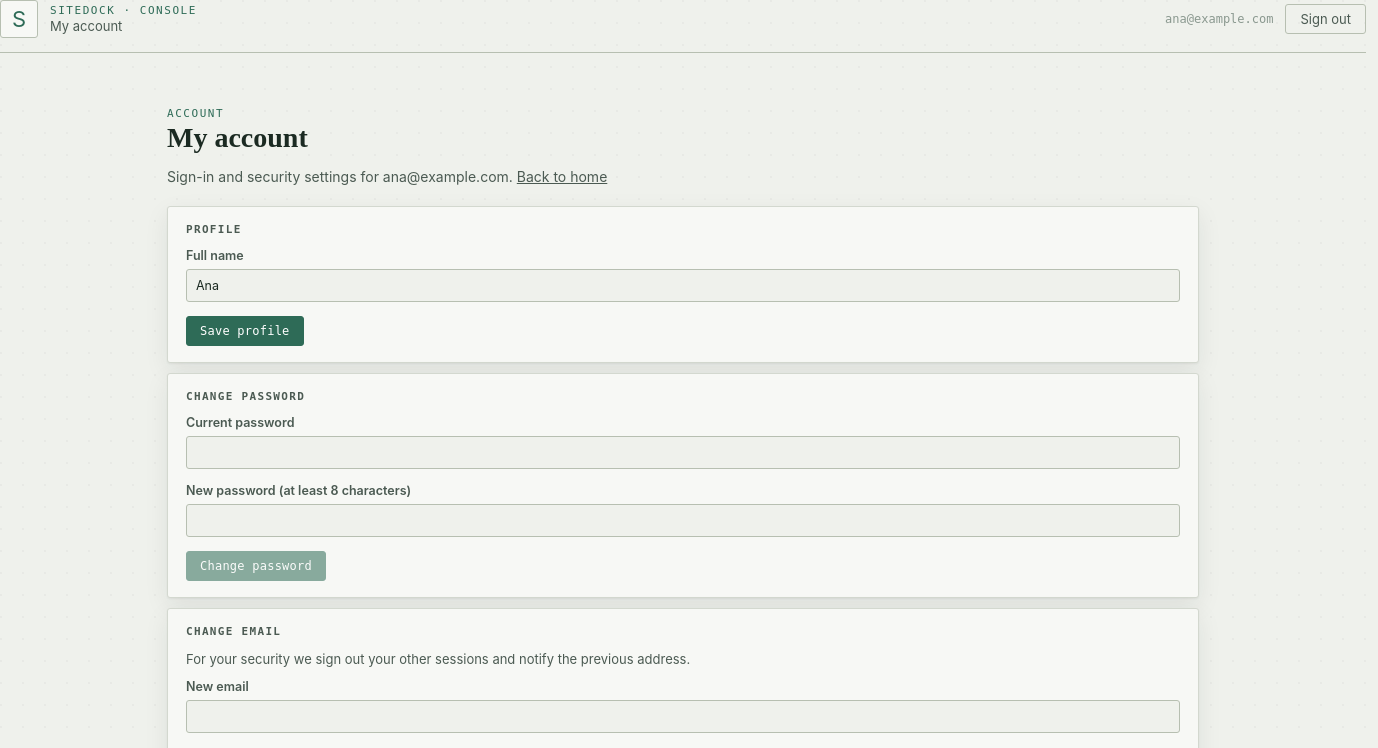
Test: AccountPage › changes the password and reports revoked sessions
The width and height of the screenshot is (1378, 748).
In the password field labelled "Current password": (683, 452) [186, 436, 1180, 469], type "old-password"
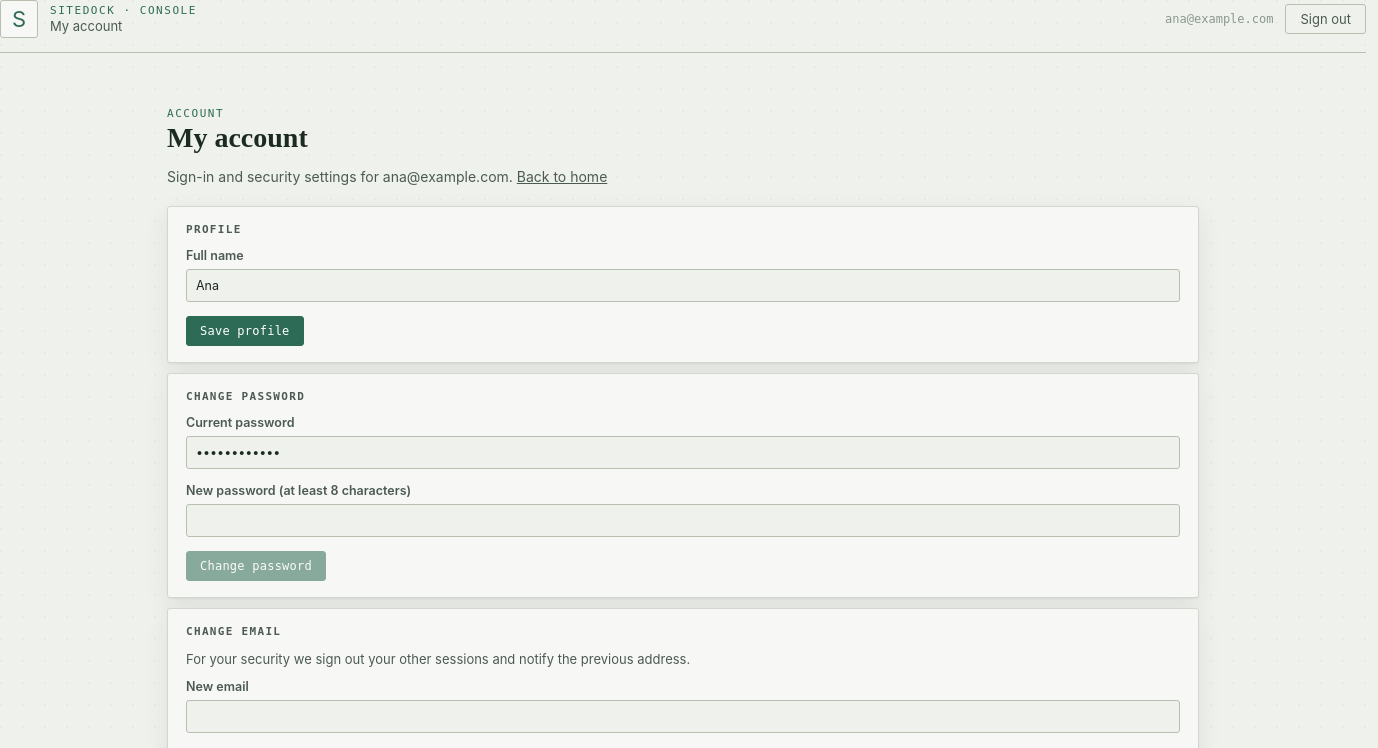
In the password field labelled "New password (at least 8 characters)": (683, 520) [186, 504, 1180, 537], type "new-password-1"
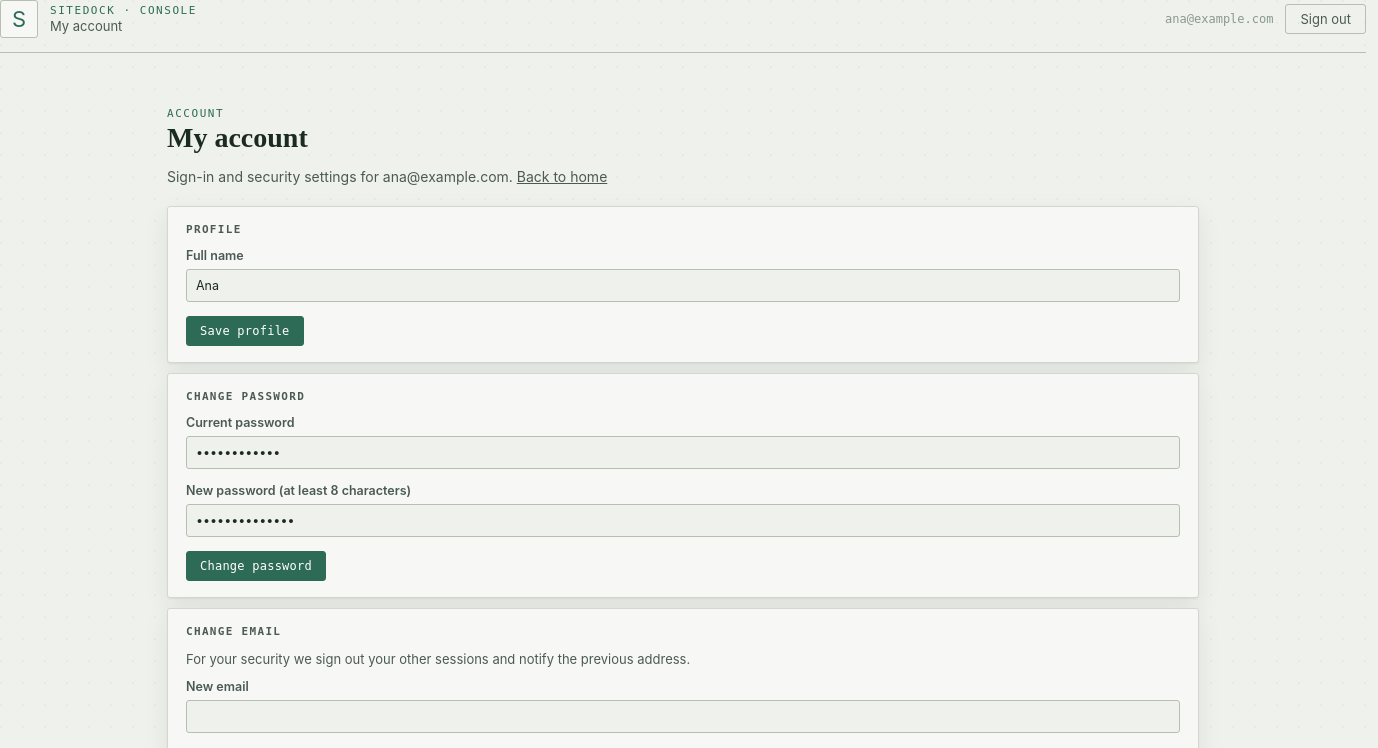
Click the button "Change password": (256, 566) [186, 551, 326, 581]
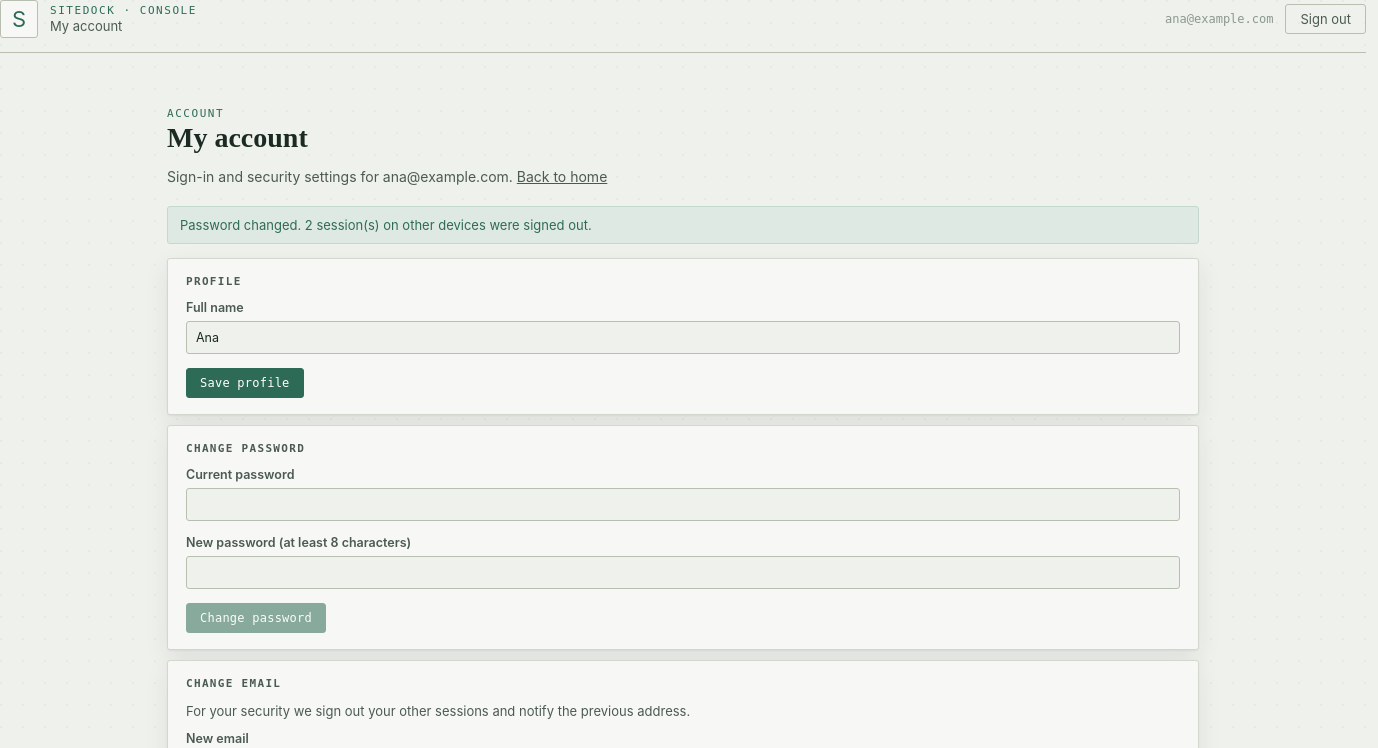
Now the text "Password changed. 2 session(s) on other devices were signed out." is shown, box [167, 206, 1199, 244]
